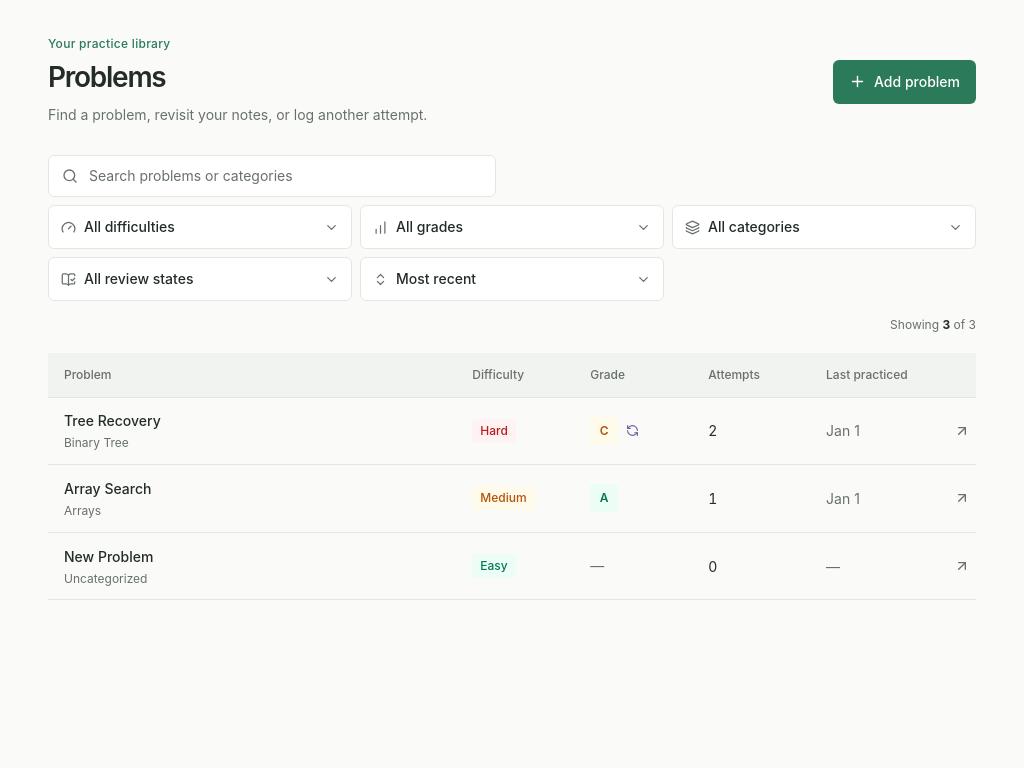
it: ProblemsView filters › does not treat an unattempted problem as no-review-needed
Click the button "All review states" at (139, 278), box [48,257,352,301]
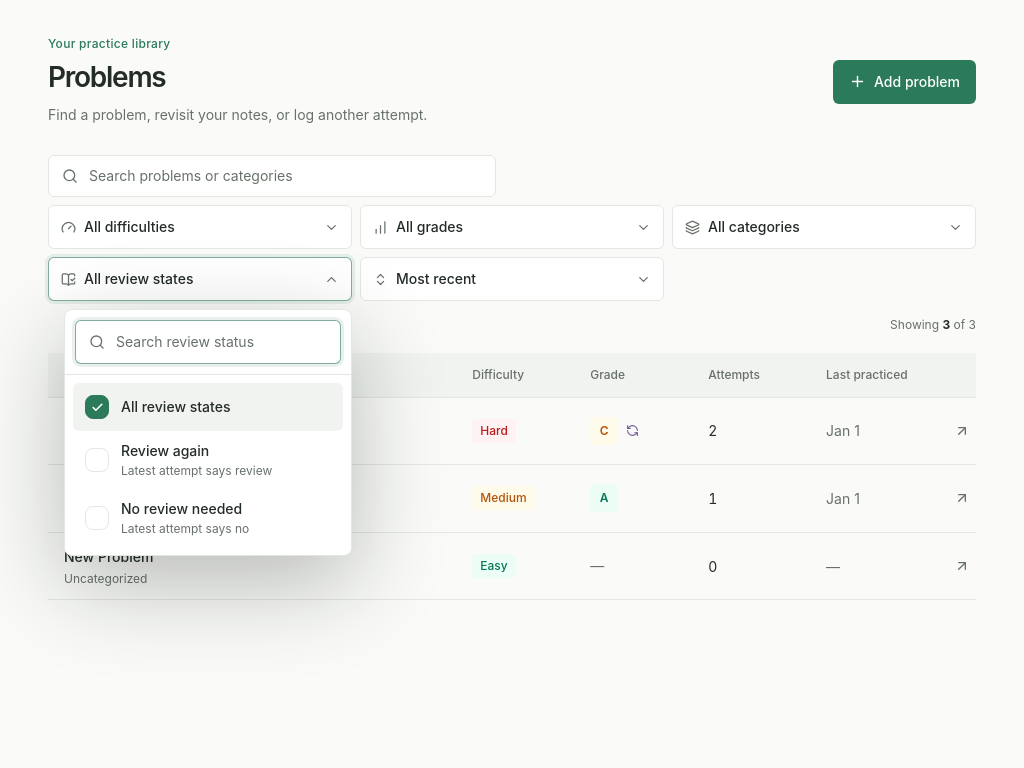
Type "No review needed" into the dropdown named "Search review status options" at (208, 342), box [75,320,341,364]
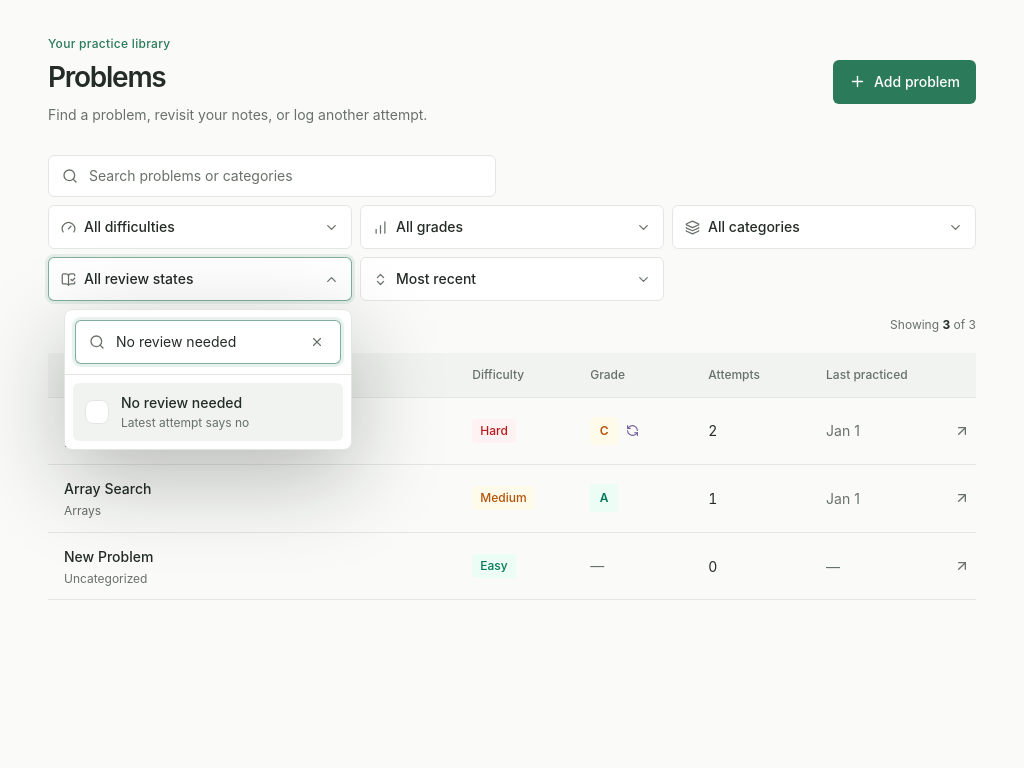
Click the option "No review needed Latest attempt says no" at (208, 412), box [73,383,343,441]
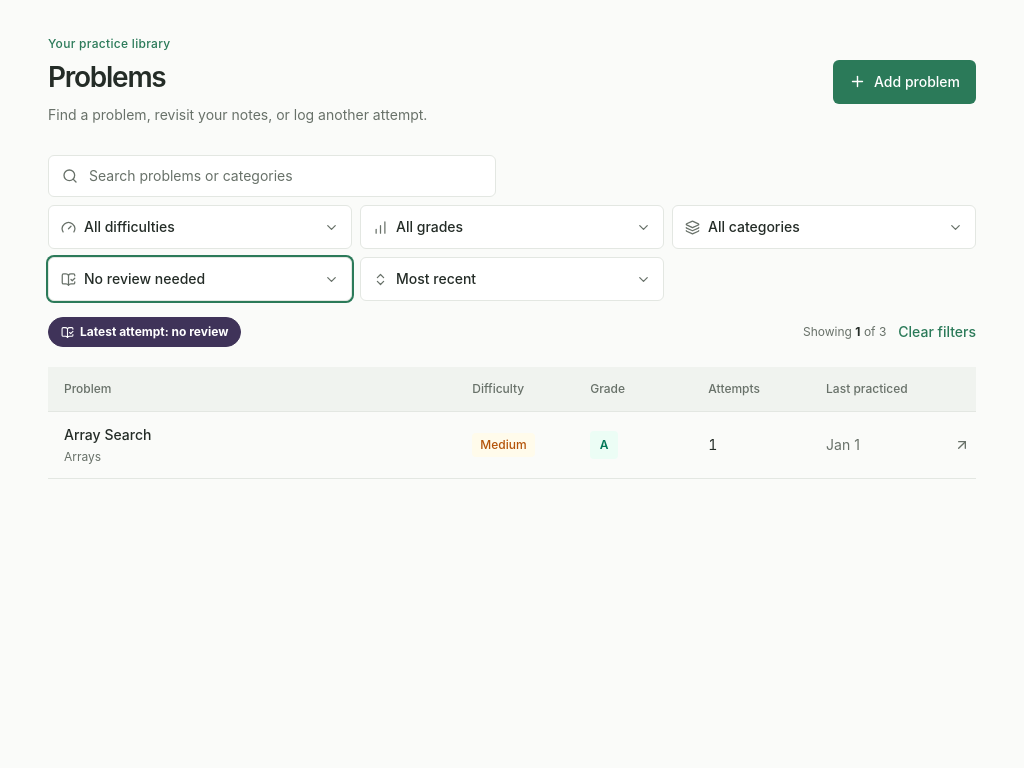
Check: the button "Array Search" is shown, box [64,424,151,445]
Check: the button "Tree Recovery" is gone
Check: the button "New Problem" is gone
